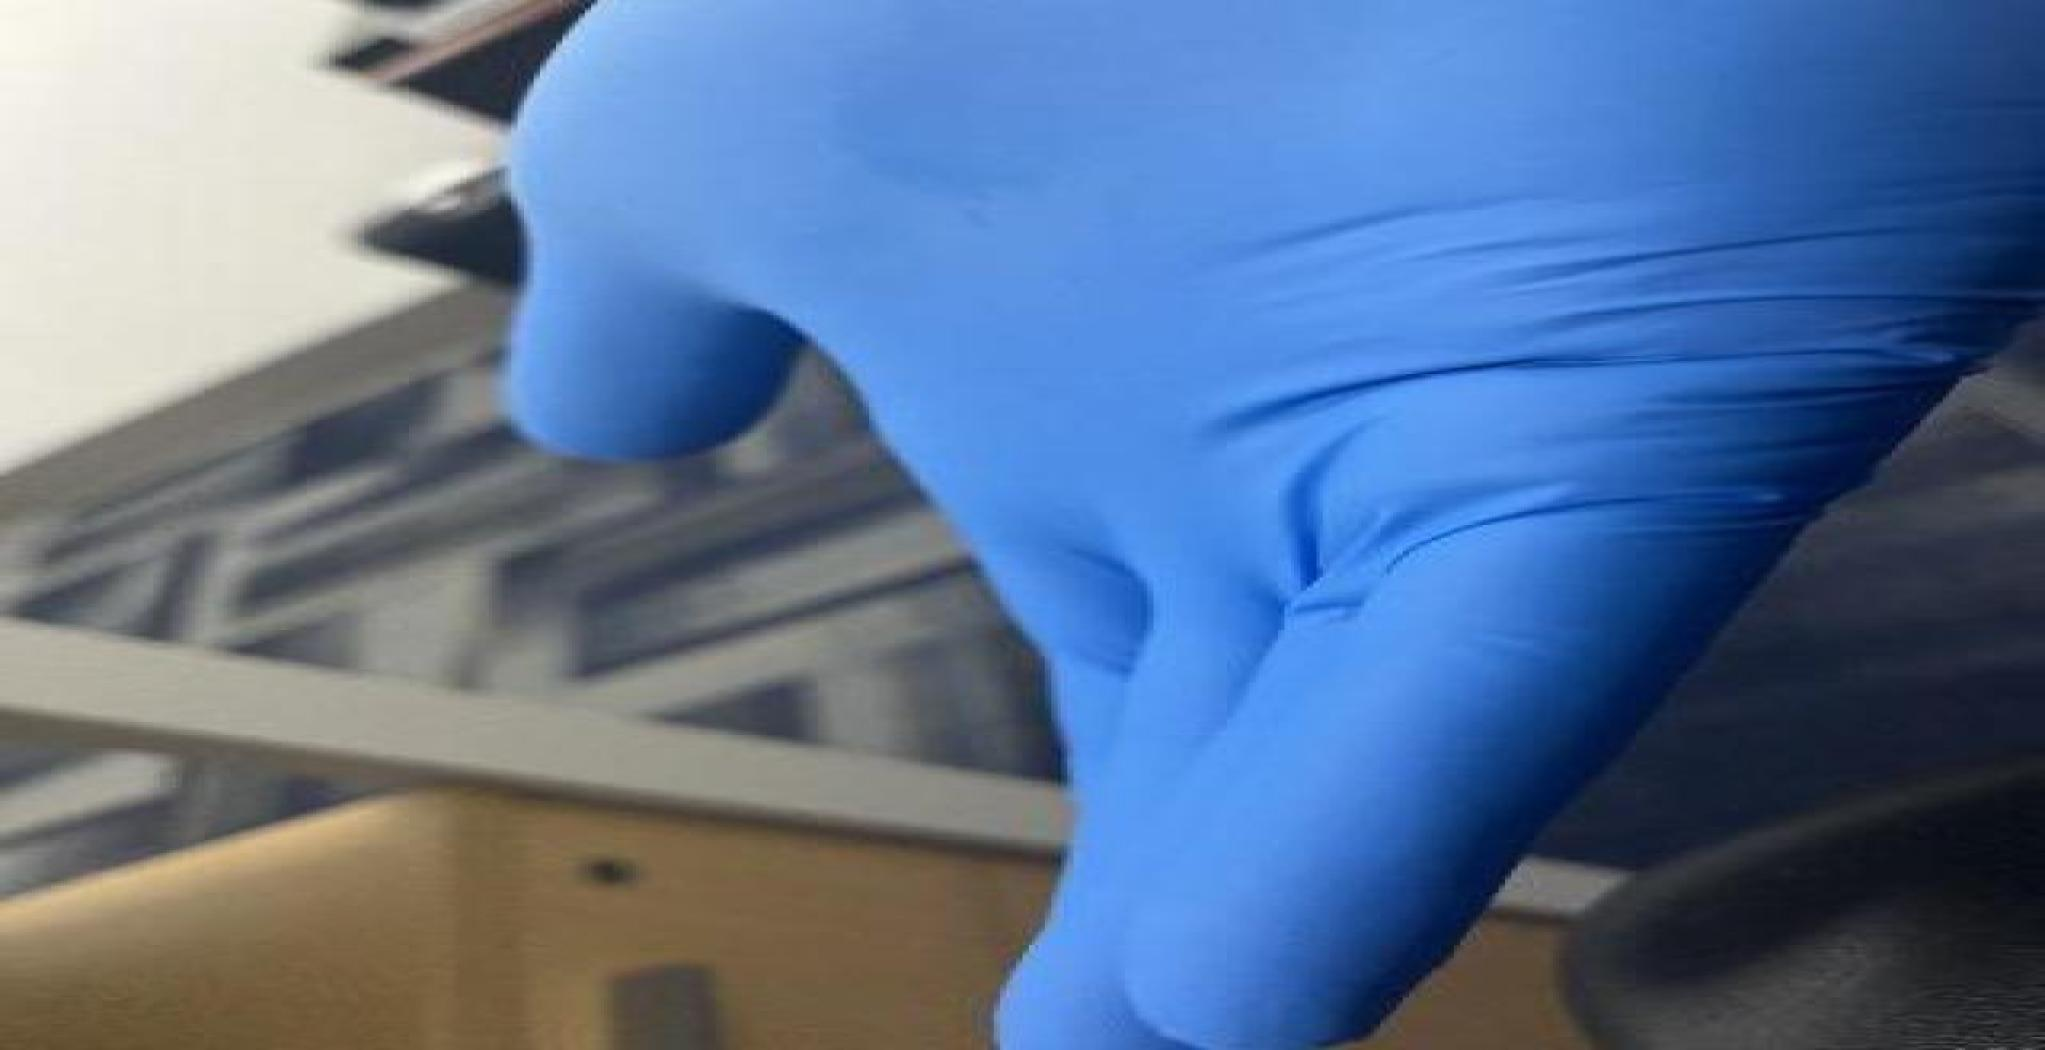gloved: (485, 0, 2038, 1049)
